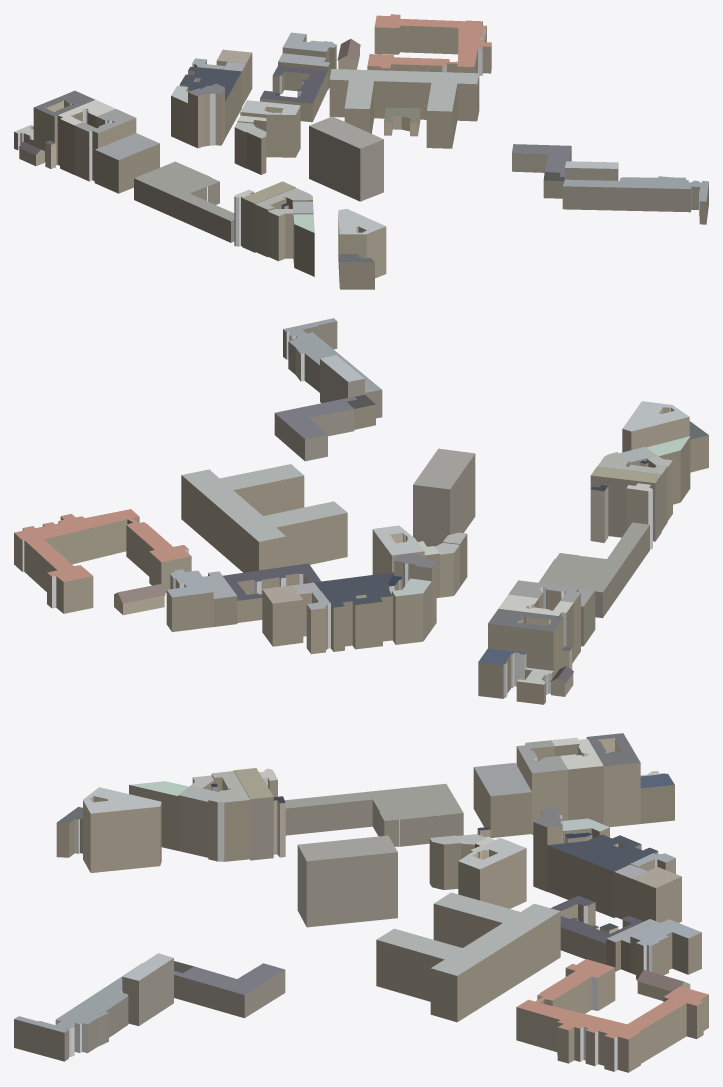
3 views of the same model, one above another, from view 1: azimuth 30°, elevation 25°; view 2: azimuth 150°, elevation 25°; view 3: azimuth 270°, elevation 25° (orthographic). The views are drawn at different scales.
Parts seen in each view (by area): view 1: tuile; view 2: tuile; view 3: tuile.
Boxes of the visible parts, <box> form: tuile: <box>14,14,708,289</box>; tuile: <box>14,318,708,704</box>; tuile: <box>14,733,708,1072</box>.
Bounding box in the file's own units: 282 × 33.87 × 293.
